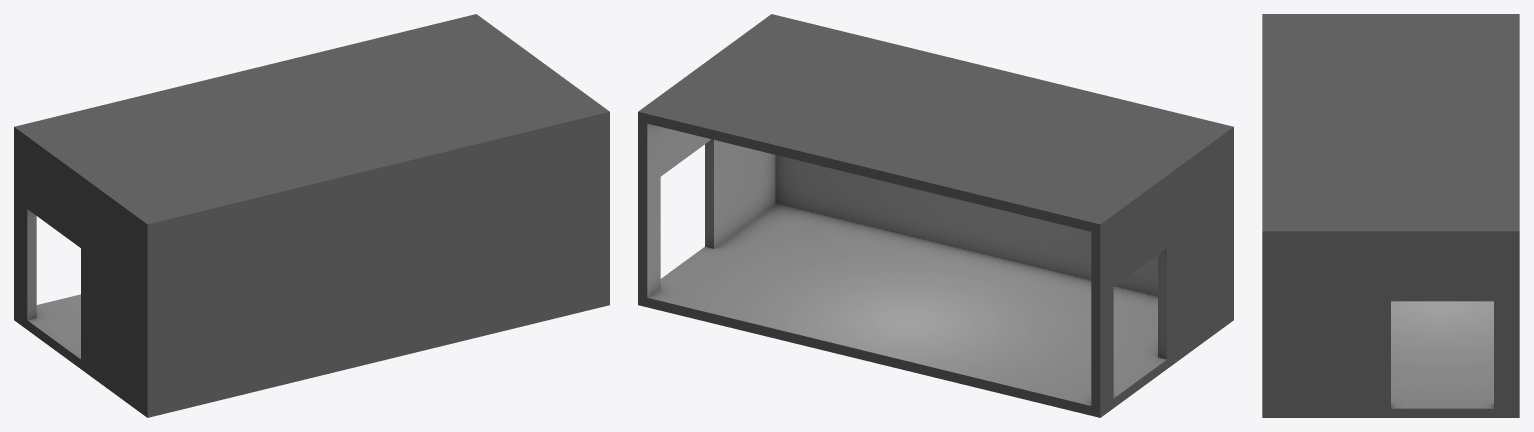
Rendered from Room_All_Standard_Sz4.fbx.
3 views of the same model, side by side, from view 1: azimuth 30°, elevation 25°; view 2: azimuth 150°, elevation 25°; view 3: azimuth 270°, elevation 25° (orthographic). The views are drawn at different scales.
Visible parts, largest first — view 1: RoomSz4; view 2: RoomSz4; view 3: RoomSz4.
Boxes of the visible parts, <box> form: RoomSz4: <box>14,14,609,417</box>; RoomSz4: <box>638,14,1233,417</box>; RoomSz4: <box>1262,14,1519,417</box>.
Size of the model in its own units: 1000 by 400 by 500.
Materials: 1 (1 with a texture image).
